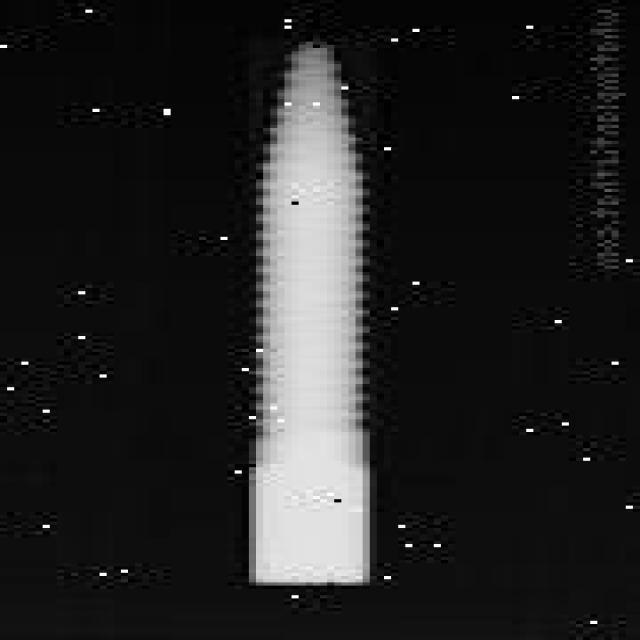Leone Implant: (249, 38, 377, 586)
